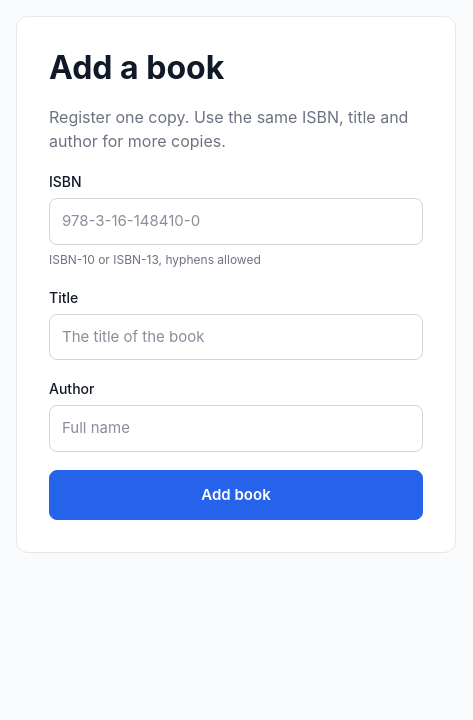
AddBookPage › reloads the book list after a success
In the field labelled "ISBN": (236, 222) [49, 198, 423, 245], type "978-955-675-510-7"
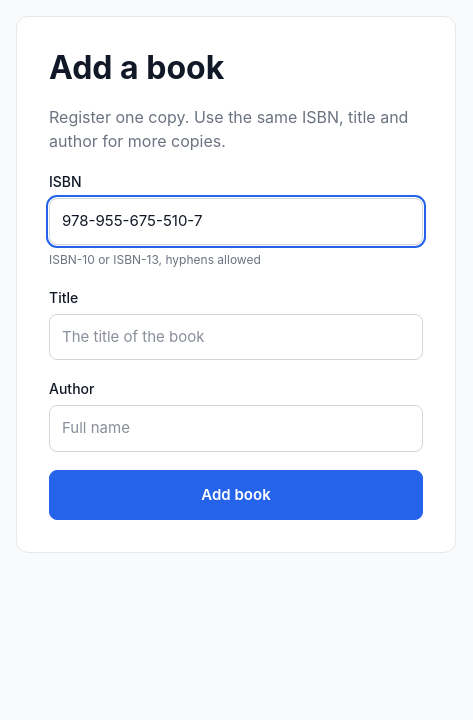
In the field labelled "Title": (236, 337) [49, 314, 423, 360], type "Dune"
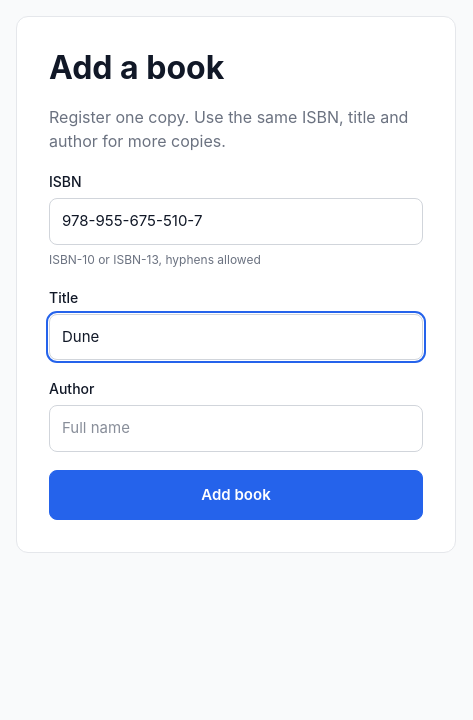
In the field labelled "Author": (236, 429) [49, 405, 423, 452], type "Frank Herbert"
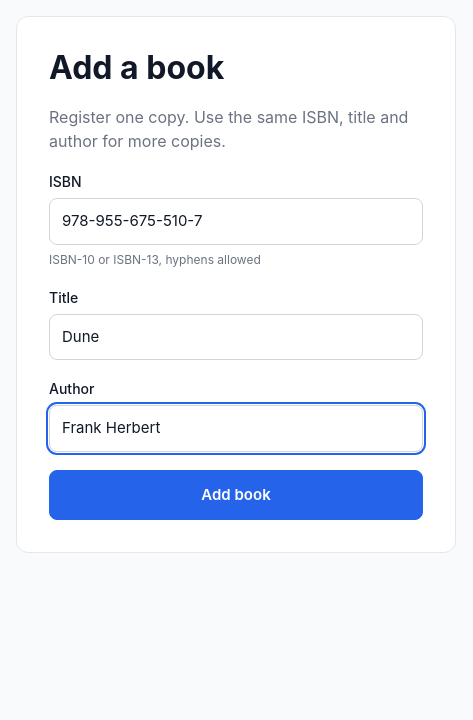
Click the button "Add book": (236, 495) [49, 470, 423, 520]
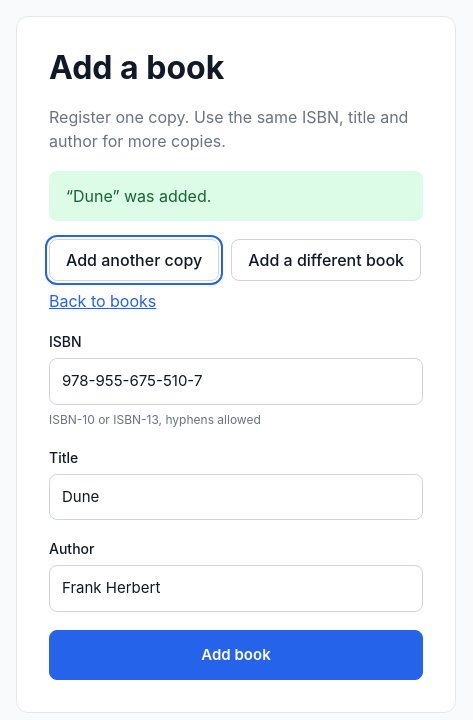
Expected: the message "“Dune” was added." is shown, [49, 171, 423, 221]
